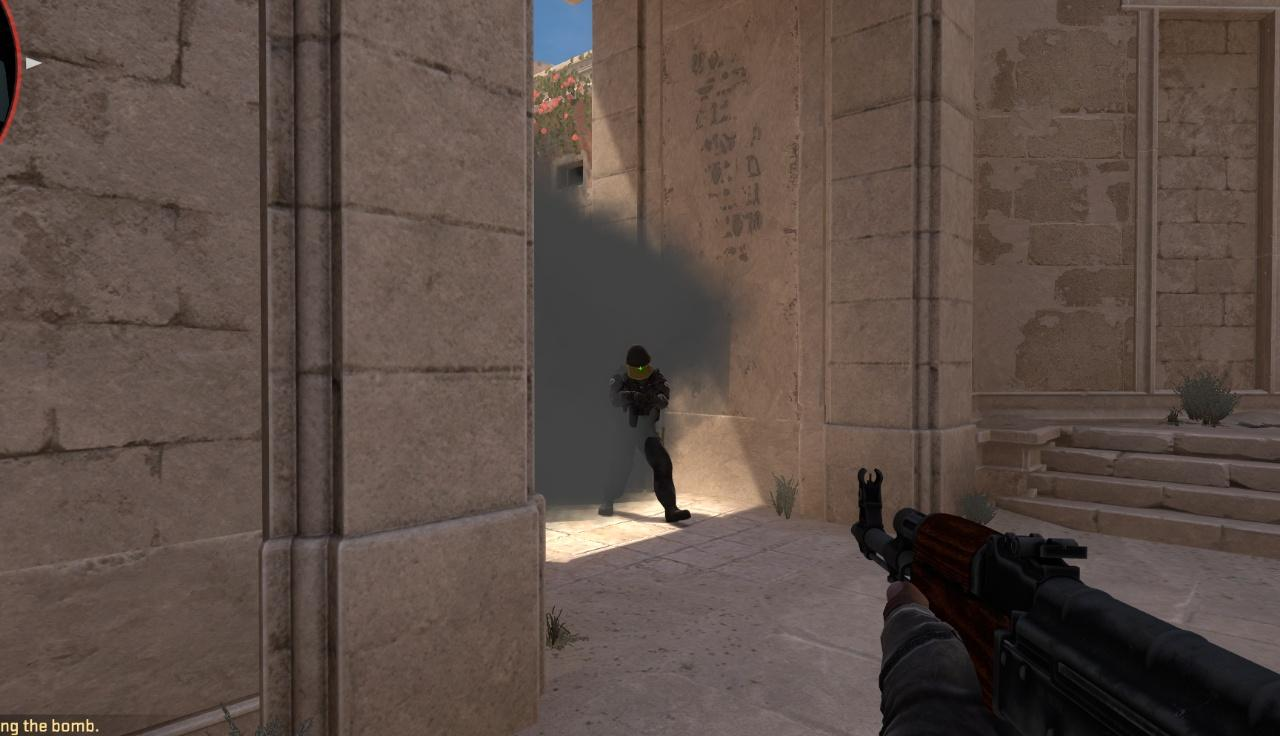ct: (620, 344, 679, 519)
cthead: (627, 347, 652, 379)
rifle: (858, 471, 1280, 736)
